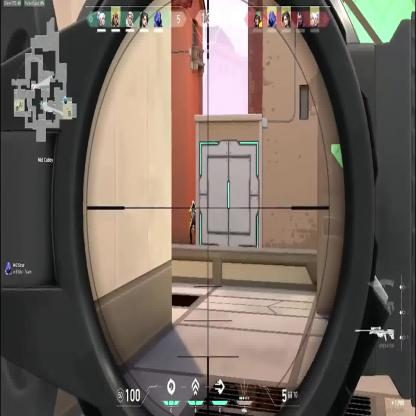enemy: (188, 201, 199, 244)
enemy_head: (191, 201, 196, 209)
